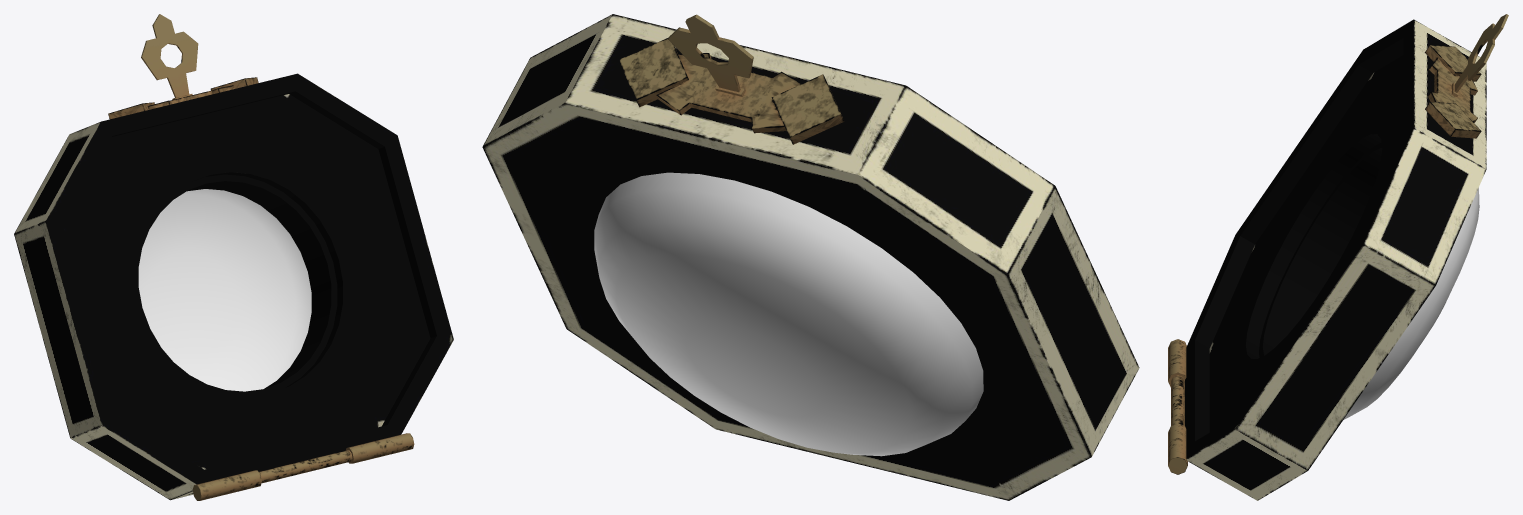
The model's file is Compas part 1.fbx.
3 views of the same model, side by side, from view 1: azimuth 30°, elevation 25°; view 2: azimuth 150°, elevation 25°; view 3: azimuth 270°, elevation 25° (orthographic). The views are drawn at different scales.
Parts seen in each view (by area): view 1: Cube.001, Cylinder, Cylinder.004, Plane, Cube.004; view 2: Cube.001, Cylinder, Cube.004, Cube.005, Plane; view 3: Cube.001, Cylinder, Cylinder.004, Cube.004, Cube.005, Plane.
Part boxes in pixels (x1,y1,x2,y2): Cube.001: (14, 73, 453, 500); Cylinder: (138, 189, 311, 391); Cylinder.004: (192, 433, 414, 500); Plane: (141, 14, 198, 99); Cube.004: (108, 77, 258, 119); Cube.001: (482, 14, 1139, 500); Cylinder: (594, 172, 983, 456); Cube.004: (618, 37, 844, 144); Cube.005: (656, 53, 801, 133); Plane: (668, 14, 753, 96); Cube.001: (1185, 19, 1486, 500); Cylinder: (1343, 187, 1479, 419); Cylinder.004: (1168, 339, 1187, 474); Cube.004: (1425, 45, 1481, 138); Cube.005: (1428, 58, 1477, 122); Plane: (1452, 14, 1508, 96).
Size of the model in its own units: 214 by 222 by 158.
6 materials, 5 textured.
